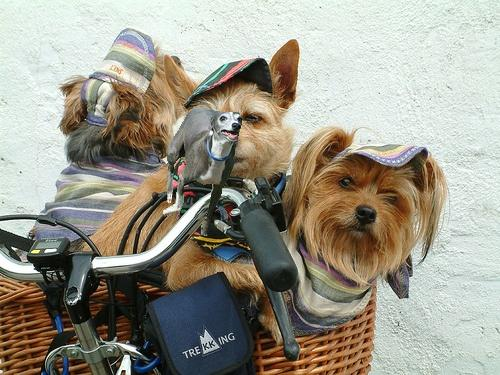tampered: (164, 109, 242, 236)
